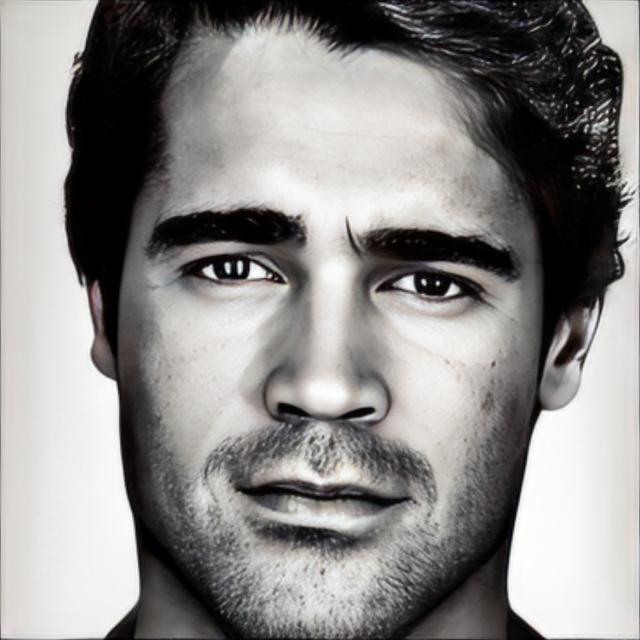content: (115, 18, 549, 636)
